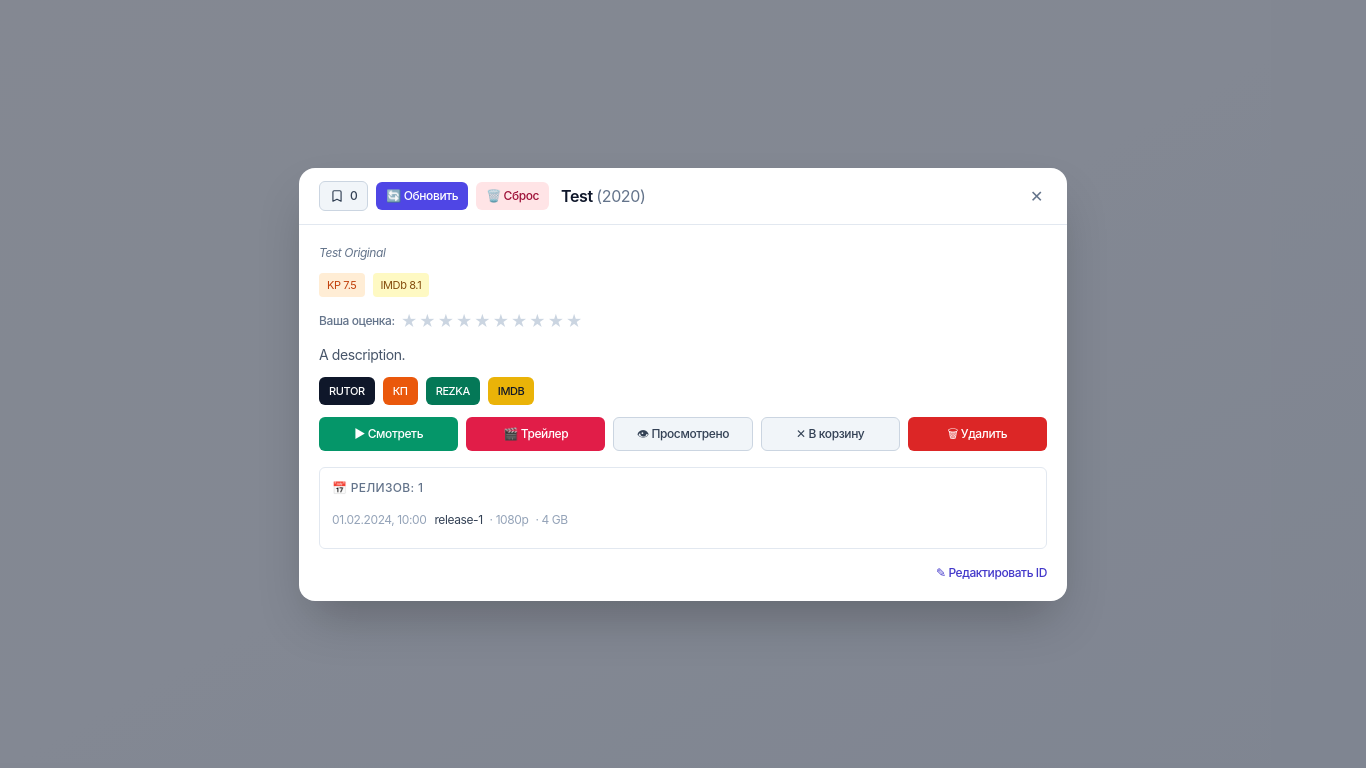
Test: ItemCardModal.vue › shows the edit-IDs panel only after the user clicks the toggle
Click the button with test id "item-modal-toggle-edit-ids": (991, 572) [936,564,1047,580]
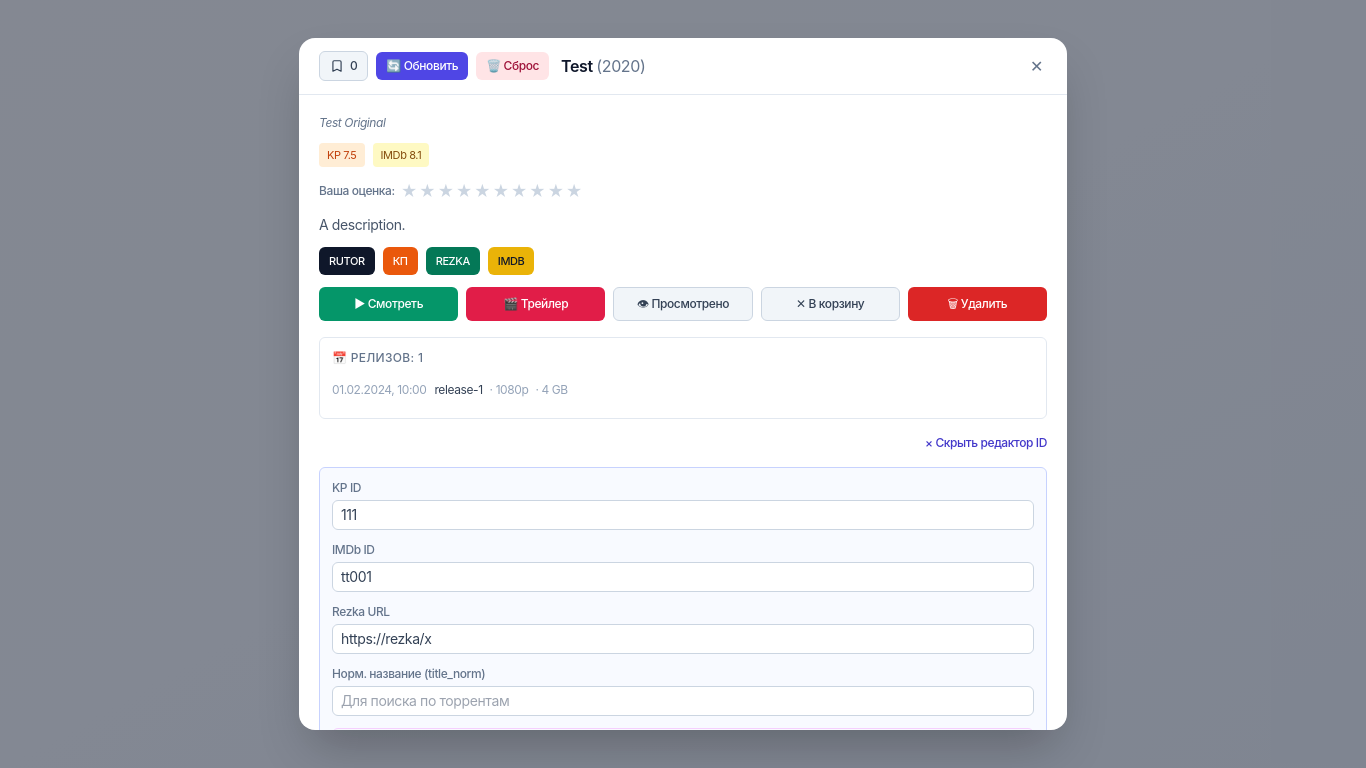
Expected: the field with test id "item-modal-input-kp" holds "111", [332,500,1034,530]
